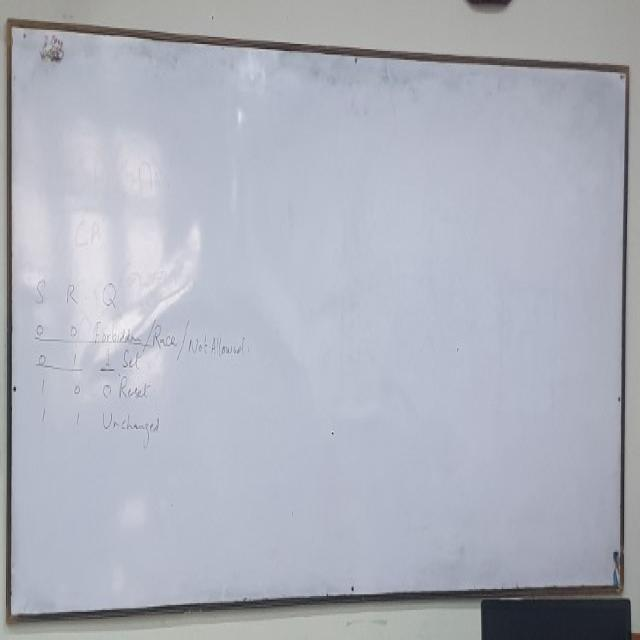White-board: (12, 21, 626, 616)
